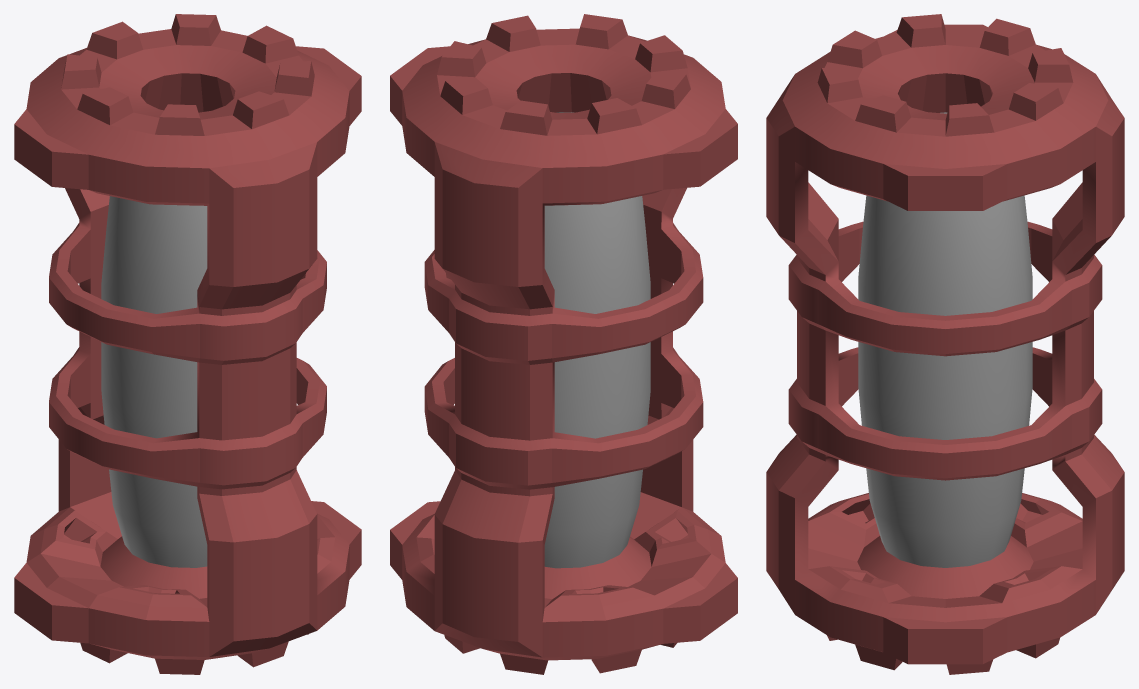
The model's file is generador.fbx.
3 views of the same model, side by side, from view 1: azimuth 30°, elevation 25°; view 2: azimuth 150°, elevation 25°; view 3: azimuth 270°, elevation 25° (orthographic).
Visible parts, largest first — view 1: polySurface120; view 2: polySurface120; view 3: polySurface120.
Part boxes in pixels (x1=…): polySurface120: x1=14, y1=14, x2=361, y2=674; polySurface120: x1=390, y1=14, x2=737, y2=674; polySurface120: x1=766, y1=14, x2=1124, y2=674.
Bounding box in the file's own units: 7.69 × 13.2 × 7.7.
